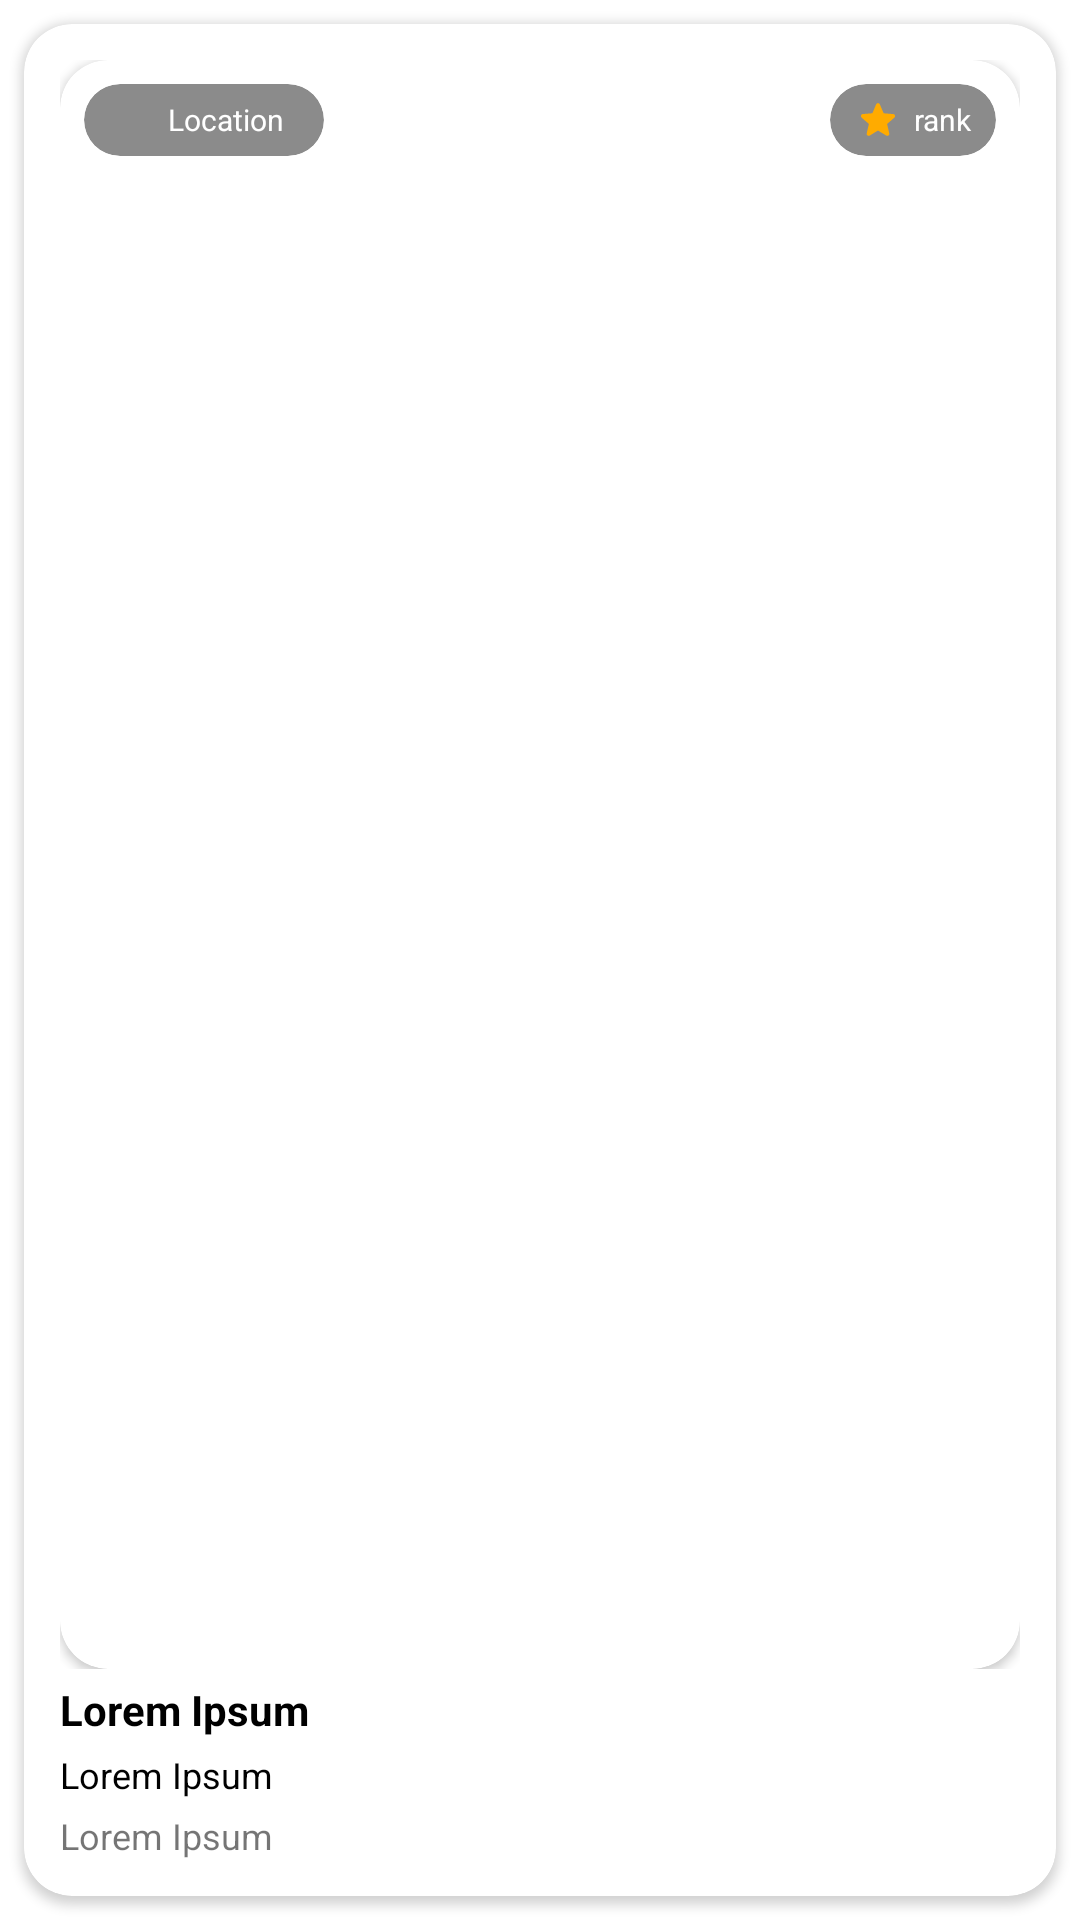

Named icons in this screenshot (1080w x 1920h) and their centers, (x,y):
star: (878,119)
